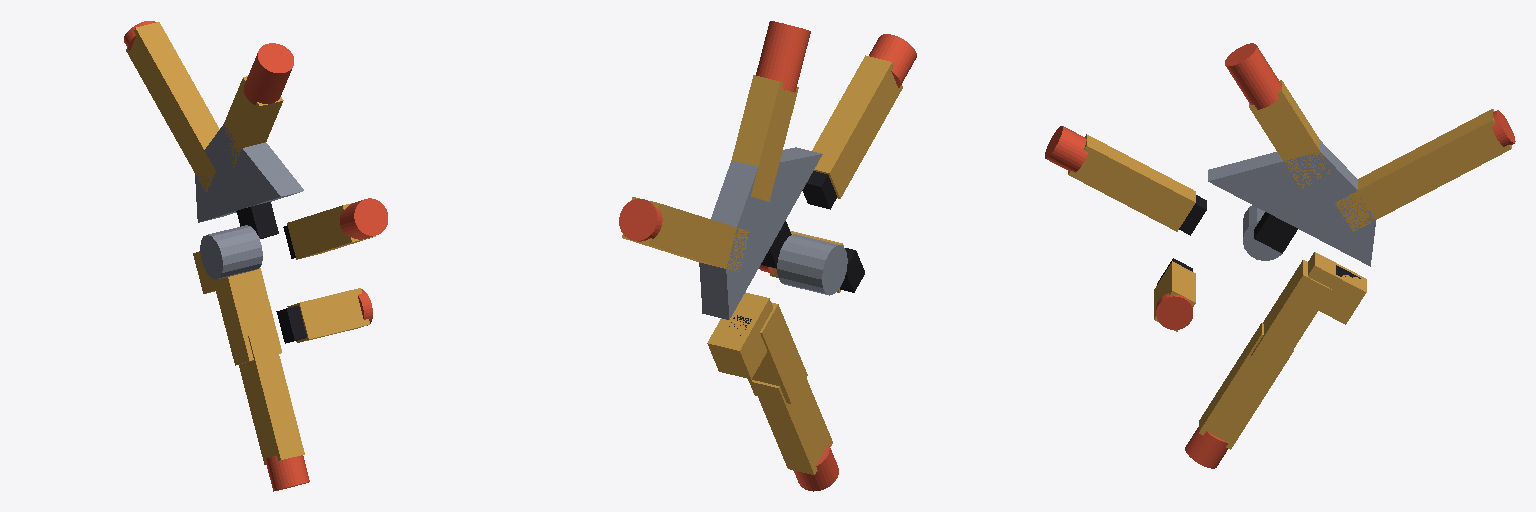
URDF robot description (g0060_c12):
<robot name="g0060_c12">
  <link name="palm">
    <visual name="palm_palm1">
      <origin xyz="0 0 0" rpy="0 0 0" />
      <geometry>
        <mesh filename="palm_palm1.obj" />
      </geometry>
      <material name="palm_palm1_mat">
        <color rgba="0.55 0.57 0.62 1" />
      </material>
    </visual>
    <collision>
      <origin xyz="0 0 0" rpy="0 0 0" />
      <geometry>
        <mesh filename="palm_palm1.obj" />
      </geometry>
    </collision>
    <visual name="palm_mount2">
      <origin xyz="0 0 0" rpy="0 0 0" />
      <geometry>
        <mesh filename="palm_mount2.obj" />
      </geometry>
      <material name="palm_mount2_mat">
        <color rgba="0.55 0.57 0.62 1" />
      </material>
    </visual>
    <collision>
      <origin xyz="0 0 0" rpy="0 0 0" />
      <geometry>
        <mesh filename="palm_mount2.obj" />
      </geometry>
    </collision>
    <visual name="palm_hinge3">
      <origin xyz="0 0.01125 0.0194855716" rpy="-1.57079633 0.523598776 1.57079633" />
      <geometry>
        <box size="0.029 0.034 0.02" />
      </geometry>
      <material name="palm_hinge3_mat">
        <color rgba="0.15 0.15 0.17 1" />
      </material>
    </visual>
    <collision>
      <origin xyz="0 0.01125 0.0194855716" rpy="-1.57079633 0.523598776 1.57079633" />
      <geometry>
        <box size="0.029 0.034 0.02" />
      </geometry>
    </collision>
    <visual name="palm_motor4">
      <origin xyz="-0.007 -0.08 -0.04" rpy="1.06057524e-16 -1.04719755 1.57079633" />
      <geometry>
        <box size="0.029 0.034 0.02" />
      </geometry>
      <material name="palm_motor4_mat">
        <color rgba="0.15 0.15 0.17 1" />
      </material>
    </visual>
    <collision>
      <origin xyz="-0.007 -0.08 -0.04" rpy="1.06057524e-16 -1.04719755 1.57079633" />
      <geometry>
        <box size="0.029 0.034 0.02" />
      </geometry>
    </collision>
    <visual name="palm_motor5">
      <origin xyz="0 -0.0735048095 0.03625" rpy="-1.57079633 -1.04719755 1.57079633" />
      <geometry>
        <box size="0.029 0.034 0.02" />
      </geometry>
      <material name="palm_motor5_mat">
        <color rgba="0.15 0.15 0.17 1" />
      </material>
    </visual>
    <collision>
      <origin xyz="0 -0.0735048095 0.03625" rpy="-1.57079633 -1.04719755 1.57079633" />
      <geometry>
        <box size="0.029 0.034 0.02" />
      </geometry>
    </collision>
    <visual name="palm_motor6">
      <origin xyz="-0.0045 0.0666996732 -0.0467548095" rpy="1.57079633 -0.523598776 -1.57079633" />
      <geometry>
        <box size="0.029 0.034 0.02" />
      </geometry>
      <material name="palm_motor6_mat">
        <color rgba="0.15 0.15 0.17 1" />
      </material>
    </visual>
    <collision>
      <origin xyz="-0.0045 0.0666996732 -0.0467548095" rpy="1.57079633 -0.523598776 -1.57079633" />
      <geometry>
        <box size="0.029 0.034 0.02" />
      </geometry>
    </collision>
    <inertial>
      <origin xyz="1.70106331e-19 -0.0176204516 -0.0141215575" rpy="1.57079633 0.364358698 1.57079633" />
      <mass value="0.726167199" />
      <inertia ixx="0.000612029214" ixy="0" ixz="0" iyy="0.00202014633" iyz="0" izz="0.00256246349" />
    </inertial>
  </link>
  <link name="palm0">
    <visual name="palm0_palm1">
      <origin xyz="0 0 0" rpy="0 0 0" />
      <geometry>
        <mesh filename="palm0_palm1.obj" />
      </geometry>
      <material name="palm0_palm1_mat">
        <color rgba="0.55 0.57 0.62 1" />
      </material>
    </visual>
    <collision>
      <origin xyz="0 0 0" rpy="0 0 0" />
      <geometry>
        <mesh filename="palm0_palm1.obj" />
      </geometry>
    </collision>
    <visual name="palm0_motor2">
      <origin xyz="0 0.02875 0.0475240474" rpy="-1.57079633 -0.523598776 1.57079633" />
      <geometry>
        <box size="0.029 0.034 0.02" />
      </geometry>
      <material name="palm0_motor2_mat">
        <color rgba="0.15 0.15 0.17 1" />
      </material>
    </visual>
    <collision>
      <origin xyz="0 0.02875 0.0475240474" rpy="-1.57079633 -0.523598776 1.57079633" />
      <geometry>
        <box size="0.029 0.034 0.02" />
      </geometry>
    </collision>
    <visual name="palm0_motor3">
      <origin xyz="0 0.0585048095 0.0102692379" rpy="-1.57079633 1.04719755 1.57079633" />
      <geometry>
        <box size="0.029 0.034 0.02" />
      </geometry>
      <material name="palm0_motor3_mat">
        <color rgba="0.15 0.15 0.17 1" />
      </material>
    </visual>
    <collision>
      <origin xyz="0 0.0585048095 0.0102692379" rpy="-1.57079633 1.04719755 1.57079633" />
      <geometry>
        <box size="0.029 0.034 0.02" />
      </geometry>
    </collision>
    <inertial>
      <origin xyz="9.54022772e-20 0.0245875519 0.0231701972" rpy="1.57079633 0.502025372 1.57079633" />
      <mass value="0.323696776" />
      <inertia ixx="0.000125863747" ixy="0" ixz="0" iyy="0.000459605854" iyz="0" izz="0.000554394711" />
    </inertial>
  </link>
  <link name="f0_link0">
    <visual name="f0_link0_link1">
      <origin xyz="0.01875 0 -6.9388939e-18" rpy="4.06369831e-17 2.80588734e-33 -2.0827301e-33" />
      <geometry>
        <box size="0.0615 0.033 0.024" />
      </geometry>
      <material name="f0_link0_link1_mat">
        <color rgba="0.80 0.62 0.30 1" />
      </material>
    </visual>
    <collision>
      <origin xyz="0.01875 0 -6.9388939e-18" rpy="4.06369831e-17 2.80588734e-33 -2.0827301e-33" />
      <geometry>
        <box size="0.0615 0.033 0.024" />
      </geometry>
    </collision>
    <inertial>
      <origin xyz="0.01875 0 0" rpy="0 0 0" />
      <mass value="0.085239" />
      <inertia ixx="1.18269113e-05" ixy="0" ixz="0" iyy="3.09577393e-05" iyz="0" izz="3.46017066e-05" />
    </inertial>
  </link>
  <link name="f0_link1">
    <visual name="f0_link1_link1">
      <origin xyz="0.009 0 -6.9388939e-18" rpy="-1.57079633 -0 -1.57079633" />
      <geometry>
        <cylinder radius="0.0165" length="0.009" />
      </geometry>
      <material name="f0_link1_link1_mat">
        <color rgba="0.85 0.35 0.25 1" />
      </material>
    </visual>
    <collision>
      <origin xyz="0.009 0 -6.9388939e-18" rpy="-1.57079633 -0 -1.57079633" />
      <geometry>
        <cylinder radius="0.0165" length="0.009" />
      </geometry>
    </collision>
    <inertial>
      <origin xyz="0.009 0 0" rpy="0 0 0" />
      <mass value="0.046399949" />
      <inertia ixx="5.41970115e-06" ixy="0" ixz="0" iyy="7.09430898e-06" iyz="0" izz="7.09430898e-06" />
    </inertial>
  </link>
  <link name="f1_link0">
    <visual name="f1_link0_link1">
      <origin xyz="0.04375 0 -1.30104261e-17" rpy="0 7.03853194e-17 0" />
      <geometry>
        <box size="0.1115 0.024 0.033" />
      </geometry>
      <material name="f1_link0_link1_mat">
        <color rgba="0.80 0.62 0.30 1" />
      </material>
    </visual>
    <collision>
      <origin xyz="0.04375 0 -1.30104261e-17" rpy="0 7.03853194e-17 0" />
      <geometry>
        <box size="0.1115 0.024 0.033" />
      </geometry>
    </collision>
    <inertial>
      <origin xyz="0.04375 0 0" rpy="0 0 0" />
      <mass value="0.154539" />
      <inertia ixx="2.14422863e-05" ixy="0" ixz="0" iyy="0.000174130038" iyz="0" izz="0.000167523496" />
    </inertial>
  </link>
  <link name="f1_link1">
    <visual name="f1_link1_link1">
      <origin xyz="0.019 0 3.46944695e-18" rpy="-1.57079633 -0 -1.57079633" />
      <geometry>
        <cylinder radius="0.0165" length="0.029" />
      </geometry>
      <material name="f1_link1_link1_mat">
        <color rgba="0.85 0.35 0.25 1" />
      </material>
    </visual>
    <collision>
      <origin xyz="0.019 0 3.46944695e-18" rpy="-1.57079633 -0 -1.57079633" />
      <geometry>
        <cylinder radius="0.0165" length="0.029" />
      </geometry>
    </collision>
    <inertial>
      <origin xyz="0.019 0 0" rpy="0 0 0" />
      <mass value="0.0763354" />
      <inertia ixx="9.49466441e-06" ixy="0" ixz="0" iyy="2.24143997e-05" iyz="0" izz="2.24143997e-05" />
    </inertial>
  </link>
  <link name="f2_link0">
    <visual name="f2_link0_link1">
      <origin xyz="-0.00625 0 -0.0165" rpy="0 4.06369831e-17 0" />
      <geometry>
        <box size="0.0365 0.029 0.053" />
      </geometry>
      <material name="f2_link0_link1_mat">
        <color rgba="0.80 0.62 0.30 1" />
      </material>
    </visual>
    <collision>
      <origin xyz="-0.00625 0 -0.0165" rpy="0 4.06369831e-17 0" />
      <geometry>
        <box size="0.0365 0.029 0.053" />
      </geometry>
    </collision>
    <inertial>
      <origin xyz="-0.00625 0 -0.0165" rpy="0 0 0" />
      <mass value="0.098175875" />
      <inertia ixx="2.98618286e-05" ixy="0" ixz="0" iyy="3.38809035e-05" iyz="0" izz="1.778006e-05" />
    </inertial>
  </link>
  <link name="f2_link1">
    <visual name="f2_link1_link1">
      <origin xyz="0.03375 0 6.9388939e-18" rpy="0 4.06369831e-17 0" />
      <geometry>
        <box size="0.0915 0.033 0.029" />
      </geometry>
      <material name="f2_link1_link1_mat">
        <color rgba="0.80 0.62 0.30 1" />
      </material>
    </visual>
    <collision>
      <origin xyz="0.03375 0 6.9388939e-18" rpy="0 4.06369831e-17 0" />
      <geometry>
        <box size="0.0915 0.033 0.029" />
      </geometry>
    </collision>
    <inertial>
      <origin xyz="0.03375 0 0" rpy="0 0 0" />
      <mass value="0.153239625" />
      <inertia ixx="2.46460397e-05" ixy="0" ixz="0" iyy="0.000117652915" iyz="0" izz="0.000120819867" />
    </inertial>
  </link>
  <link name="f2_link2">
    <visual name="f2_link2_link1">
      <origin xyz="0.04375 0 -6.9388939e-18" rpy="0 4.06369831e-17 0" />
      <geometry>
        <box size="0.1115 0.024 0.033" />
      </geometry>
      <material name="f2_link2_link1_mat">
        <color rgba="0.80 0.62 0.30 1" />
      </material>
    </visual>
    <collision>
      <origin xyz="0.04375 0 -6.9388939e-18" rpy="0 4.06369831e-17 0" />
      <geometry>
        <box size="0.1115 0.024 0.033" />
      </geometry>
    </collision>
    <inertial>
      <origin xyz="0.04375 0 0" rpy="0 0 0" />
      <mass value="0.154539" />
      <inertia ixx="2.14422863e-05" ixy="0" ixz="0" iyy="0.000174130038" iyz="0" izz="0.000167523496" />
    </inertial>
  </link>
  <link name="f2_link3">
    <visual name="f2_link3_link1">
      <origin xyz="0.019 0 -1.73472348e-17" rpy="-1.57079633 -0 -1.57079633" />
      <geometry>
        <cylinder radius="0.0165" length="0.029" />
      </geometry>
      <material name="f2_link3_link1_mat">
        <color rgba="0.85 0.35 0.25 1" />
      </material>
    </visual>
    <collision>
      <origin xyz="0.019 0 -1.73472348e-17" rpy="-1.57079633 -0 -1.57079633" />
      <geometry>
        <cylinder radius="0.0165" length="0.029" />
      </geometry>
    </collision>
    <inertial>
      <origin xyz="0.019 0 0" rpy="0 0 0" />
      <mass value="0.0763354" />
      <inertia ixx="9.49466441e-06" ixy="0" ixz="0" iyy="2.24143997e-05" iyz="0" izz="2.24143997e-05" />
    </inertial>
  </link>
  <link name="f3_link0">
    <visual name="f3_link0_link1">
      <origin xyz="0.03375 0 0" rpy="0 3.98552134e-18 0" />
      <geometry>
        <box size="0.0915 0.024 0.033" />
      </geometry>
      <material name="f3_link0_link1_mat">
        <color rgba="0.80 0.62 0.30 1" />
      </material>
    </visual>
    <collision>
      <origin xyz="0.03375 0 0" rpy="0 3.98552134e-18 0" />
      <geometry>
        <box size="0.0915 0.024 0.033" />
      </geometry>
    </collision>
    <inertial>
      <origin xyz="0.03375 0 0" rpy="0 0 0" />
      <mass value="0.126819" />
      <inertia ixx="1.75961363e-05" ixy="0" ixz="0" iyy="9.99888553e-05" iyz="0" izz="9.45673431e-05" />
    </inertial>
  </link>
  <link name="f3_link1">
    <visual name="f3_link1_link1">
      <origin xyz="0.029 0 -6.9388939e-18" rpy="-1.57079633 -0 -1.57079633" />
      <geometry>
        <cylinder radius="0.0165" length="0.049" />
      </geometry>
      <material name="f3_link1_link1_mat">
        <color rgba="0.85 0.35 0.25 1" />
      </material>
    </visual>
    <collision>
      <origin xyz="0.029 0 -6.9388939e-18" rpy="-1.57079633 -0 -1.57079633" />
      <geometry>
        <cylinder radius="0.0165" length="0.049" />
      </geometry>
    </collision>
    <inertial>
      <origin xyz="0.029 0 0" rpy="0 0 0" />
      <mass value="0.106270851" />
      <inertia ixx="1.35696277e-05" ixy="0" ixz="0" iyy="5.30015704e-05" iyz="0" izz="5.30015704e-05" />
    </inertial>
  </link>
  <link name="f4_link0">
    <visual name="f4_link0_link1">
      <origin xyz="0.02375 0 7.80625564e-18" rpy="0 -7.03853194e-17 0" />
      <geometry>
        <box size="0.0715 0.024 0.033" />
      </geometry>
      <material name="f4_link0_link1_mat">
        <color rgba="0.80 0.62 0.30 1" />
      </material>
    </visual>
    <collision>
      <origin xyz="0.02375 0 7.80625564e-18" rpy="0 -7.03853194e-17 0" />
      <geometry>
        <box size="0.0715 0.024 0.033" />
      </geometry>
    </collision>
    <inertial>
      <origin xyz="0.02375 0 0" rpy="0 0 0" />
      <mass value="0.099099" />
      <inertia ixx="1.37499863e-05" ixy="0" ixz="0" iyy="5.12114728e-05" iyz="0" izz="4.69749906e-05" />
    </inertial>
  </link>
  <link name="f4_link1">
    <visual name="f4_link1_link1">
      <origin xyz="0.04375 0 1.73472348e-17" rpy="0 -7.03853194e-17 0" />
      <geometry>
        <box size="0.1115 0.024 0.033" />
      </geometry>
      <material name="f4_link1_link1_mat">
        <color rgba="0.80 0.62 0.30 1" />
      </material>
    </visual>
    <collision>
      <origin xyz="0.04375 0 1.73472348e-17" rpy="0 -7.03853194e-17 0" />
      <geometry>
        <box size="0.1115 0.024 0.033" />
      </geometry>
    </collision>
    <inertial>
      <origin xyz="0.04375 0 0" rpy="0 0 0" />
      <mass value="0.154539" />
      <inertia ixx="2.14422863e-05" ixy="0" ixz="0" iyy="0.000174130038" iyz="0" izz="0.000167523496" />
    </inertial>
  </link>
  <link name="f4_link2">
    <visual name="f4_link2_link1">
      <origin xyz="0.009 0 1.6479873e-17" rpy="-1.57079633 -0 -1.57079633" />
      <geometry>
        <cylinder radius="0.0165" length="0.009" />
      </geometry>
      <material name="f4_link2_link1_mat">
        <color rgba="0.85 0.35 0.25 1" />
      </material>
    </visual>
    <collision>
      <origin xyz="0.009 0 1.6479873e-17" rpy="-1.57079633 -0 -1.57079633" />
      <geometry>
        <cylinder radius="0.0165" length="0.009" />
      </geometry>
    </collision>
    <inertial>
      <origin xyz="0.009 0 0" rpy="0 0 0" />
      <mass value="0.046399949" />
      <inertia ixx="5.41970115e-06" ixy="0" ixz="0" iyy="7.09430898e-06" iyz="0" izz="7.09430898e-06" />
    </inertial>
  </link>
  <joint name="palm0_joint" type="revolute">
    <parent link="palm" />
    <child link="palm0" />
    <origin xyz="0 0.015 0.0259807621" rpy="0 0 0" />
    <axis xyz="0 0.866025404 -0.5" />
    <limit effort="0.5" lower="-0.523598776" upper="0.523598776" velocity="5" />
    <dynamics damping="0.0775033" friction="0" />
  </joint>
  <joint name="f0_j0" type="revolute">
    <parent link="palm" />
    <child link="f0_link0" />
    <origin xyz="0.0005 -0.08 -0.04" rpy="1.04719755 5.30287619e-17 -3.061617e-17" />
    <axis xyz="0 1 6.123234e-17" />
    <limit effort="0.5" lower="-0.523598776" upper="0.523598776" velocity="5" />
    <dynamics damping="0.0775033" friction="0" />
  </joint>
  <joint name="f0_j1" type="revolute">
    <parent link="f0_link0" />
    <child link="f0_link1" />
    <origin xyz="0.04 0 0" rpy="0 0 0" />
    <axis xyz="0 1 6.123234e-17" />
    <limit effort="0.5" lower="-0.523598776" upper="0.523598776" velocity="5" />
    <dynamics damping="0.0775033" friction="0" />
  </joint>
  <joint name="f1_j0" type="revolute">
    <parent link="palm" />
    <child link="f1_link0" />
    <origin xyz="0 -0.08 0.04" rpy="-0 -0.523598776 -1.57079633" />
    <axis xyz="0 0 1" />
    <limit effort="0.5" lower="-0.523598776" upper="1.57079633" velocity="5" />
    <dynamics damping="0.0775033" friction="0" />
  </joint>
  <joint name="f1_j1" type="revolute">
    <parent link="f1_link0" />
    <child link="f1_link1" />
    <origin xyz="0.09 0 0" rpy="0 0 0" />
    <axis xyz="0 0 1" />
    <limit effort="0.5" lower="-0.523598776" upper="1.57079633" velocity="5" />
    <dynamics damping="0.0775033" friction="0" />
  </joint>
  <joint name="f2_j0" type="revolute">
    <parent link="palm" />
    <child link="f2_link0" />
    <origin xyz="-0.0045 0.04 -0.04" rpy="0 1.04719755 -1.57079633" />
    <axis xyz="0 0 1" />
    <limit effort="0.5" lower="-0.523598776" upper="1.57079633" velocity="5" />
    <dynamics damping="0.0775033" friction="0" />
  </joint>
  <joint name="f2_j1" type="revolute">
    <parent link="f2_link0" />
    <child link="f2_link1" />
    <origin xyz="0 0 0" rpy="0 0 0" />
    <axis xyz="0 1 6.123234e-17" />
    <limit effort="0.5" lower="-0.523598776" upper="0.523598776" velocity="5" />
    <dynamics damping="0.0775033" friction="0" />
  </joint>
  <joint name="f2_j2" type="revolute">
    <parent link="f2_link1" />
    <child link="f2_link2" />
    <origin xyz="0.07 0 0" rpy="0 0 0" />
    <axis xyz="0 0 1" />
    <limit effort="0.5" lower="-0.523598776" upper="1.57079633" velocity="5" />
    <dynamics damping="0.0775033" friction="0" />
  </joint>
  <joint name="f2_j3" type="revolute">
    <parent link="f2_link2" />
    <child link="f2_link3" />
    <origin xyz="0.09 0 0" rpy="0 0 0" />
    <axis xyz="0 0 1" />
    <limit effort="0.5" lower="-0.523598776" upper="1.57079633" velocity="5" />
    <dynamics damping="0.0775033" friction="0" />
  </joint>
  <joint name="f3_j0" type="revolute">
    <parent link="palm0" />
    <child link="f3_link0" />
    <origin xyz="0 0.025 0.0540192379" rpy="-0 -1.04719755 -1.57079633" />
    <axis xyz="0 0 1" />
    <limit effort="0.5" lower="-0.523598776" upper="1.57079633" velocity="5" />
    <dynamics damping="0.0775033" friction="0" />
  </joint>
  <joint name="f3_j1" type="revolute">
    <parent link="f3_link0" />
    <child link="f3_link1" />
    <origin xyz="0.07 0 0" rpy="0 0 0" />
    <axis xyz="0 0 1" />
    <limit effort="0.5" lower="-0.523598776" upper="1.57079633" velocity="5" />
    <dynamics damping="0.0775033" friction="0" />
  </joint>
  <joint name="f4_j0" type="revolute">
    <parent link="palm0" />
    <child link="f4_link0" />
    <origin xyz="0 0.065 0.0140192379" rpy="-3.14159265 -0.523598776 1.57079633" />
    <axis xyz="0 0 1" />
    <limit effort="0.5" lower="-0.523598776" upper="1.57079633" velocity="5" />
    <dynamics damping="0.0775033" friction="0" />
  </joint>
  <joint name="f4_j1" type="revolute">
    <parent link="f4_link0" />
    <child link="f4_link1" />
    <origin xyz="0.05 0 0" rpy="0 0 0" />
    <axis xyz="0 0 1" />
    <limit effort="0.5" lower="-0.523598776" upper="1.57079633" velocity="5" />
    <dynamics damping="0.0775033" friction="0" />
  </joint>
  <joint name="f4_j2" type="revolute">
    <parent link="f4_link1" />
    <child link="f4_link2" />
    <origin xyz="0.09 0 0" rpy="0 0 0" />
    <axis xyz="0 0 1" />
    <limit effort="0.5" lower="-0.523598776" upper="1.57079633" velocity="5" />
    <dynamics damping="0.0775033" friction="0" />
  </joint>
</robot>

--- What the picture shows (computed from the rendered views, not written in the file) ---
The picture shows the robot from 3 angles, left to right: view 1: azimuth 30°, elevation 25°; view 2: azimuth 150°, elevation 25°; view 3: azimuth 270°, elevation 25°; orthographic projection.
Model g0060_c12 with 15 links and 14 joints (14 revolute), rooted at palm, posed all joints at 0.
Visible links, largest first — view 1: palm0, f2_link2, palm, f4_link1, f2_link1, f0_link0, f3_link0, f1_link0, f3_link1, f4_link0, f1_link1, f2_link3; view 2: palm0, f1_link0, palm, f3_link0, f2_link2, f2_link0, f2_link1, f4_link1, f3_link1, f4_link2, f1_link1, f4_link0 (+1 smaller); view 3: palm0, f1_link0, f4_link1, f2_link2, f2_link1, f3_link0, f4_link0, palm, f3_link1, f2_link0, f1_link1, f0_link0 (+3 smaller).
Boxes of the visible links, bbox=[...] form: palm0: bbox=[195, 124, 303, 222]; f2_link2: bbox=[239, 330, 304, 464]; palm: bbox=[200, 202, 306, 343]; f4_link1: bbox=[126, 22, 212, 132]; f2_link1: bbox=[213, 268, 281, 365]; f0_link0: bbox=[287, 288, 369, 342]; f3_link0: bbox=[224, 76, 283, 167]; f1_link0: bbox=[287, 203, 375, 259]; f3_link1: bbox=[244, 43, 293, 104]; f4_link0: bbox=[171, 102, 219, 193]; f1_link1: bbox=[340, 198, 387, 239]; f2_link3: bbox=[265, 455, 309, 491]; palm0: bbox=[699, 147, 822, 319]; f1_link0: bbox=[812, 55, 902, 198]; palm: bbox=[729, 171, 864, 335]; f3_link0: bbox=[732, 75, 798, 201]; f2_link2: bbox=[752, 378, 832, 474]; f2_link0: bbox=[707, 292, 772, 379]; f2_link1: bbox=[748, 302, 807, 403]; f4_link1: bbox=[622, 197, 719, 263]; f3_link1: bbox=[756, 21, 810, 92]; f4_link2: bbox=[619, 199, 662, 241]; f1_link1: bbox=[869, 34, 916, 87]; f4_link0: bbox=[682, 220, 749, 271]; palm0: bbox=[1208, 140, 1375, 266]; f1_link0: bbox=[1068, 134, 1195, 231]; f4_link1: bbox=[1384, 109, 1511, 202]; f2_link2: bbox=[1199, 323, 1293, 449]; f2_link1: bbox=[1251, 260, 1331, 370]; f3_link0: bbox=[1249, 80, 1330, 188]; f4_link0: bbox=[1335, 157, 1422, 231]; palm: bbox=[1157, 195, 1360, 284]; f3_link1: bbox=[1225, 43, 1281, 109]; f2_link0: bbox=[1308, 252, 1366, 324]; f1_link1: bbox=[1045, 126, 1087, 172]; f0_link0: bbox=[1154, 261, 1195, 331].
Size in the robot's own frame: 0.106 by 0.4164 by 0.411 metres.
Meshes: 3 distinct files referenced, 2 mesh visuals loaded (2 OBJ); not drawn: 1 (reference not matched to a file when rendering).
